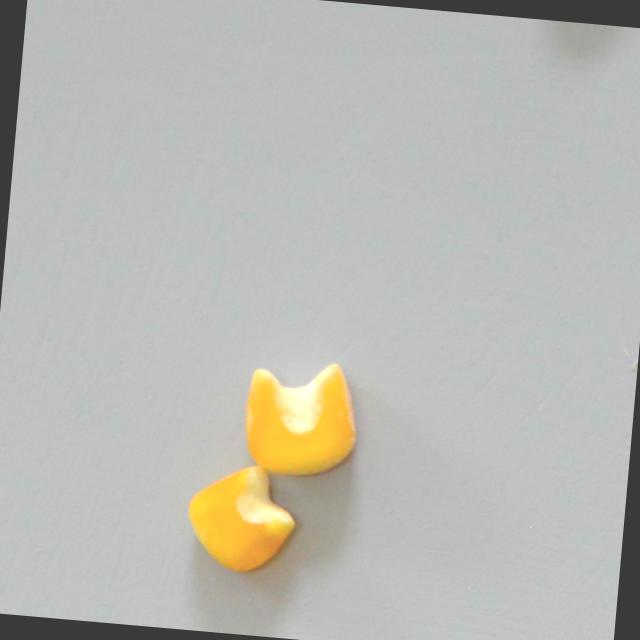dañado: (230, 350, 365, 482), (173, 458, 305, 583)
